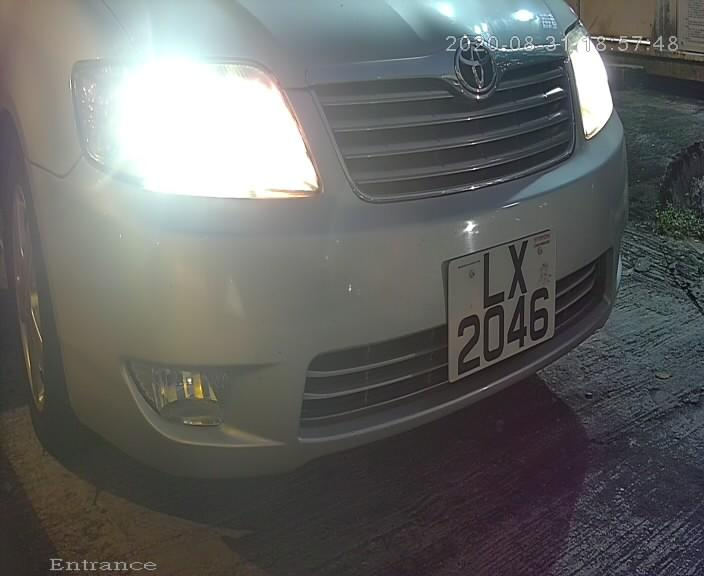License Plate: (444, 217, 569, 386)
